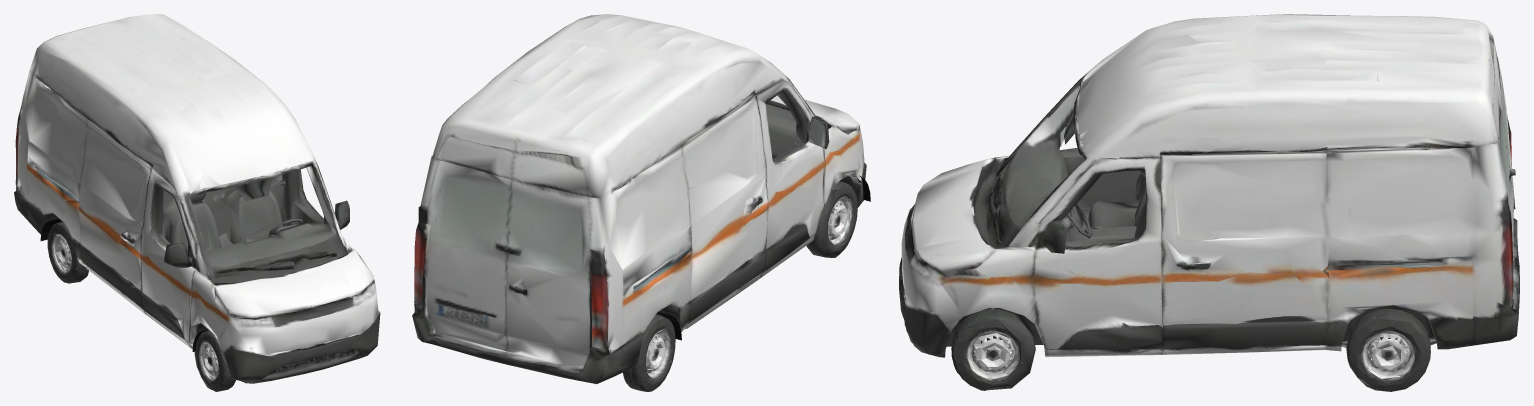
File: car_van_lod.glb
3 views of the same model, side by side, from view 1: azimuth 30°, elevation 25°; view 2: azimuth 150°, elevation 25°; view 3: azimuth 270°, elevation 25° (orthographic). The views are drawn at different scales.
Visible parts, largest first — view 1: body, wheel_FR, wheel_RR; view 2: body, wheel_RR, wheel_FR; view 3: body, wheel_RL, wheel_FL.
Boxes of the visible parts, x1,y1,x2,y2 form: body: [14, 14, 380, 388]; wheel_FR: [198, 333, 235, 391]; wheel_RR: [47, 221, 76, 283]; body: [412, 14, 866, 384]; wheel_RR: [623, 314, 675, 391]; wheel_FR: [828, 176, 861, 253]; body: [899, 14, 1519, 391]; wheel_RL: [1349, 308, 1430, 391]; wheel_FL: [940, 308, 1021, 390].
Size of the model in its own units: 2.45 by 2.78 by 5.29.
2 materials, 1 textured.
